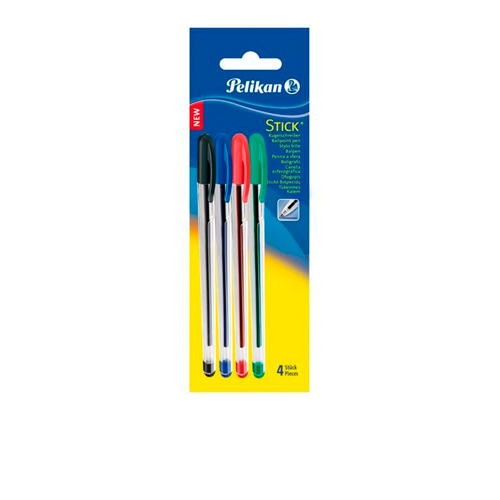Boligrafo: (245, 125, 274, 377), (194, 133, 219, 381), (209, 131, 234, 378), (228, 128, 251, 378)
